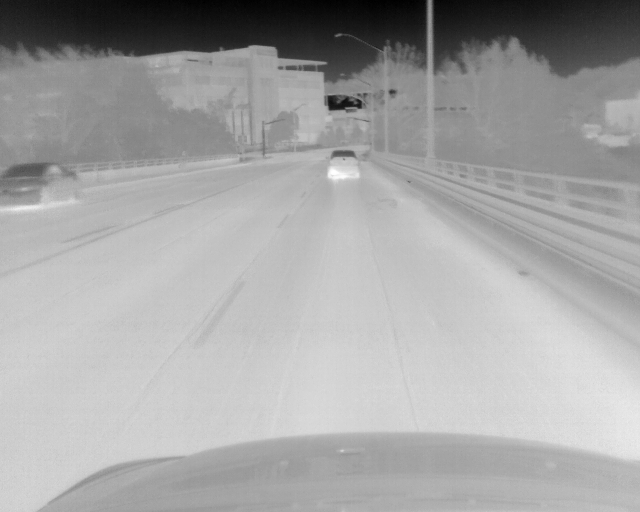car: (1, 161, 85, 210), (326, 147, 360, 179)
